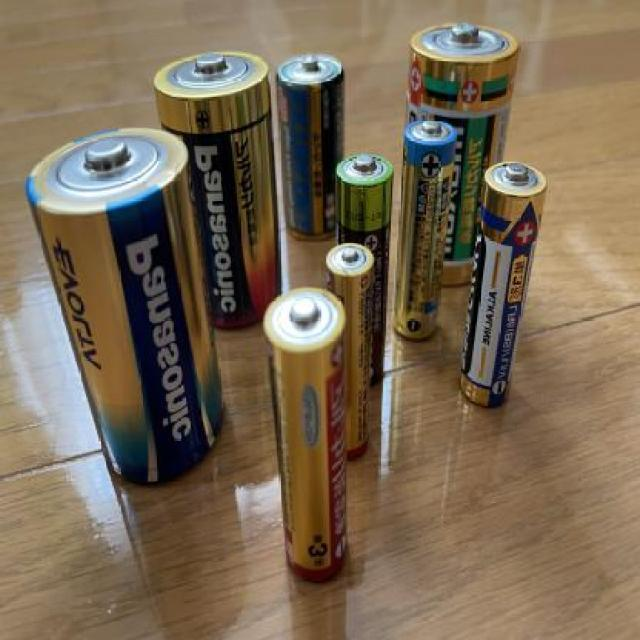AA: (262, 277, 352, 585), (455, 156, 548, 412)
AAA: (389, 120, 457, 343)
